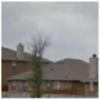chimneys: (90, 54, 98, 84), (16, 42, 25, 60)
